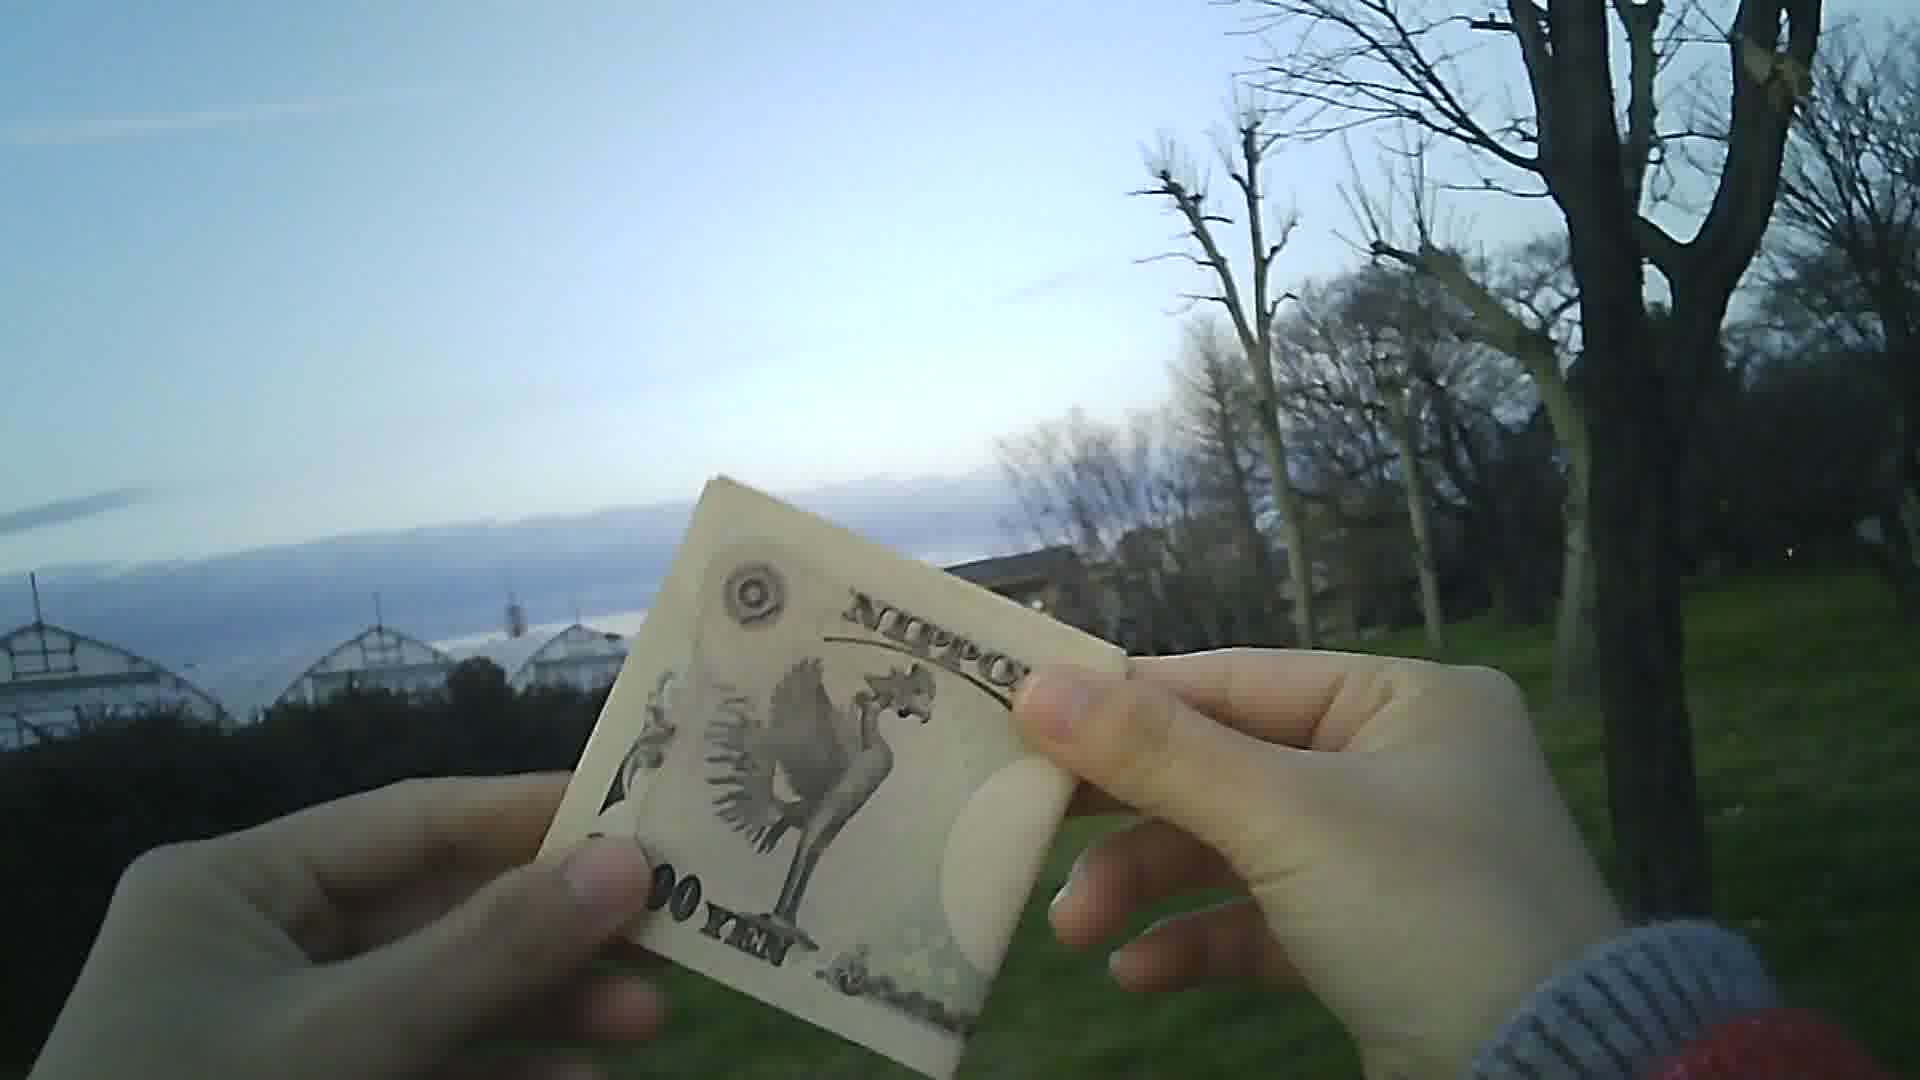10,000 Yen: (516, 446, 1092, 1079)
